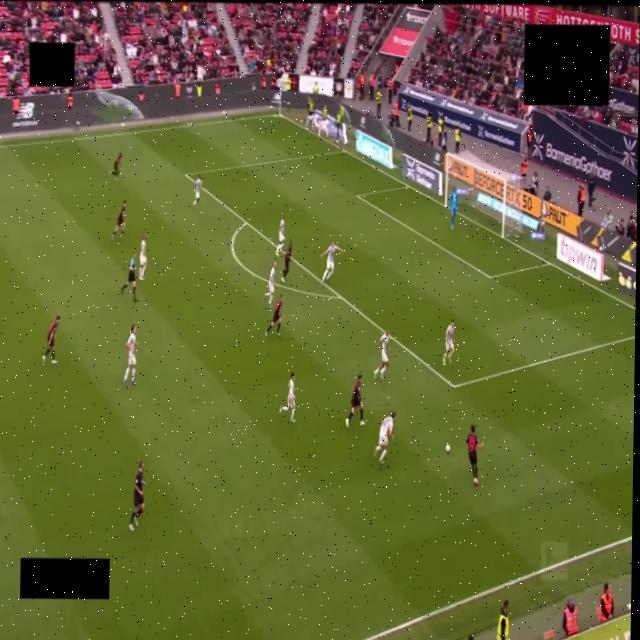ball: (445, 444, 450, 453)
player: (374, 412, 396, 464), (129, 461, 145, 530), (465, 425, 483, 486), (346, 374, 365, 426), (123, 325, 137, 385), (321, 242, 342, 282), (43, 316, 60, 364), (373, 330, 389, 378), (280, 372, 295, 422), (266, 294, 283, 336), (111, 200, 126, 241), (264, 262, 276, 306), (443, 320, 454, 364), (281, 240, 291, 282), (139, 235, 148, 281), (449, 187, 458, 229), (276, 214, 285, 256), (110, 153, 122, 180), (193, 175, 201, 207)
referee: (121, 254, 137, 302)
